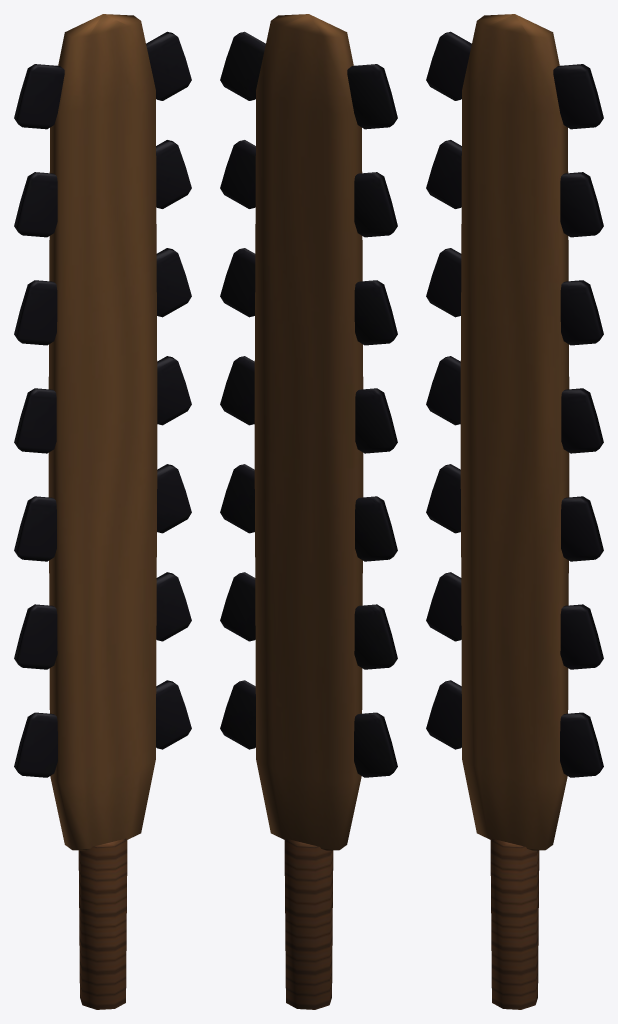
The model's file is macuahuitl.glb.
3 renders of one model, left to right at view 1: azimuth 30°, elevation 25°; view 2: azimuth 150°, elevation 25°; view 3: azimuth 330°, elevation 25°, orthographic.
Parts seen in each view (by area): view 1: macuahuitl; view 2: macuahuitl; view 3: macuahuitl.
Part boxes in pixels (x1=…): macuahuitl: x1=14, y1=14, x2=191, y2=1009; macuahuitl: x1=220, y1=14, x2=397, y2=1009; macuahuitl: x1=426, y1=14, x2=603, y2=1009.
Bounding box in the file's own units: 0.1335 × 0.73 × 0.034.
1 material, 1 textured.
